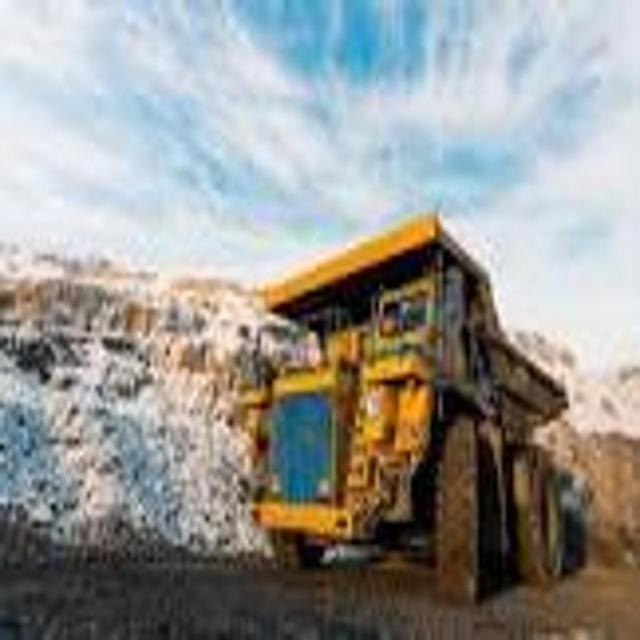dump_truck: (244, 210, 586, 613)
